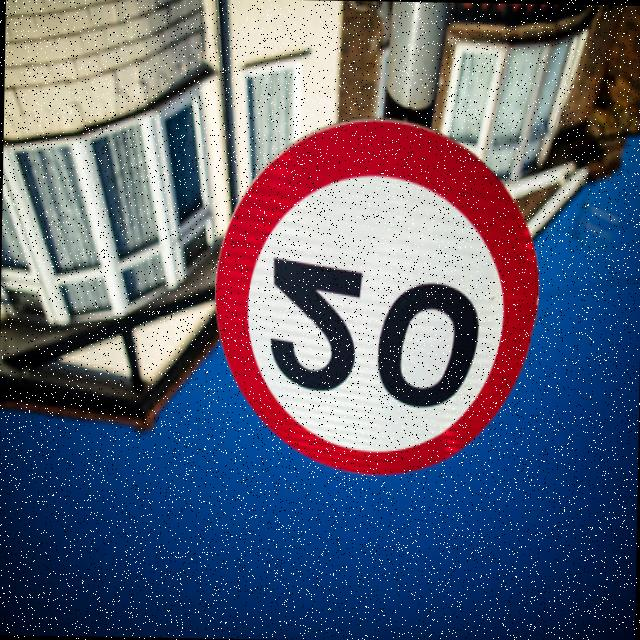speed_limit_20: (210, 117, 541, 484)
